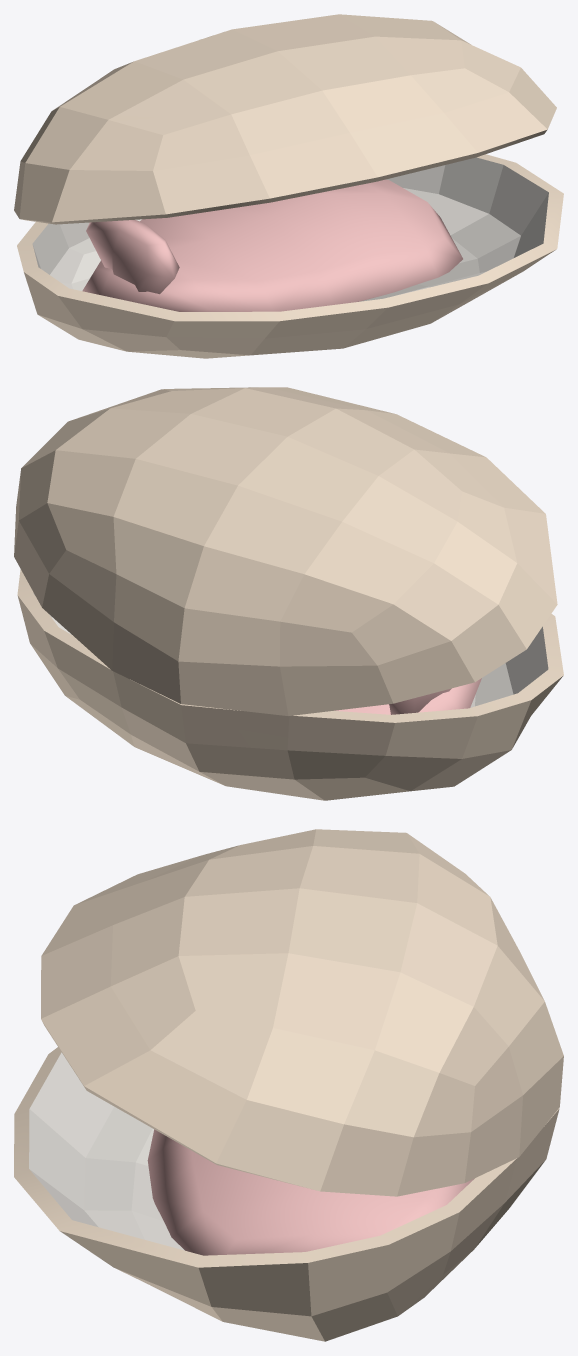
The model's file is Musling.glb.
3 views of the same model, one above another, from view 1: azimuth 30°, elevation 25°; view 2: azimuth 150°, elevation 25°; view 3: azimuth 270°, elevation 25° (orthographic). The views are drawn at different scales.
Parts seen in each view (by area): view 1: Geo_Clam; view 2: Geo_Clam; view 3: Geo_Clam.
Part boxes in pixels (x1,y1,x2,y2): Geo_Clam: [14, 14, 563, 358]; Geo_Clam: [14, 387, 563, 800]; Geo_Clam: [14, 829, 563, 1341].
Size of the model in its own units: 1.4 by 0.8076 by 1.06.
Materials: 1 (1 with a texture image).
